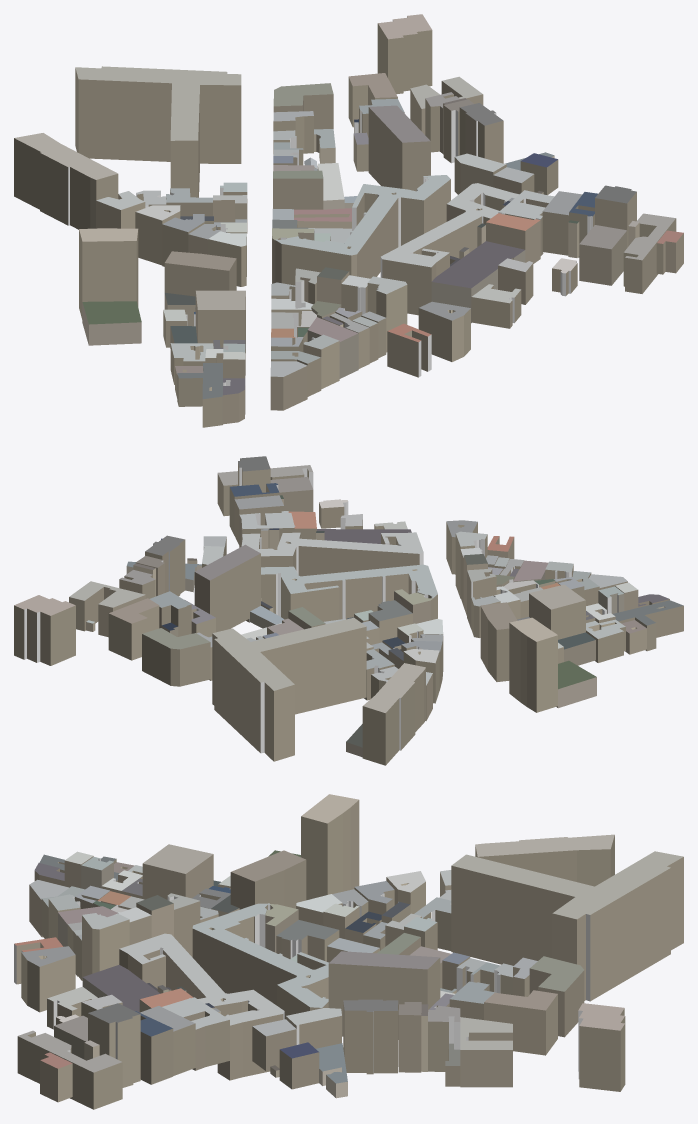
3 renders of one model, top to bottom at view 1: azimuth 30°, elevation 25°; view 2: azimuth 150°, elevation 25°; view 3: azimuth 270°, elevation 25°, orthographic. The views are drawn at different scales.
Visible parts, largest first — view 1: tuile; view 2: tuile; view 3: tuile.
Part boxes in pixels (x1,y1,x2,y2): tuile: (14, 14, 683, 427); tuile: (14, 456, 683, 765); tuile: (14, 794, 683, 1109).
Size of the model in its own units: 274 by 55.45 by 287.
